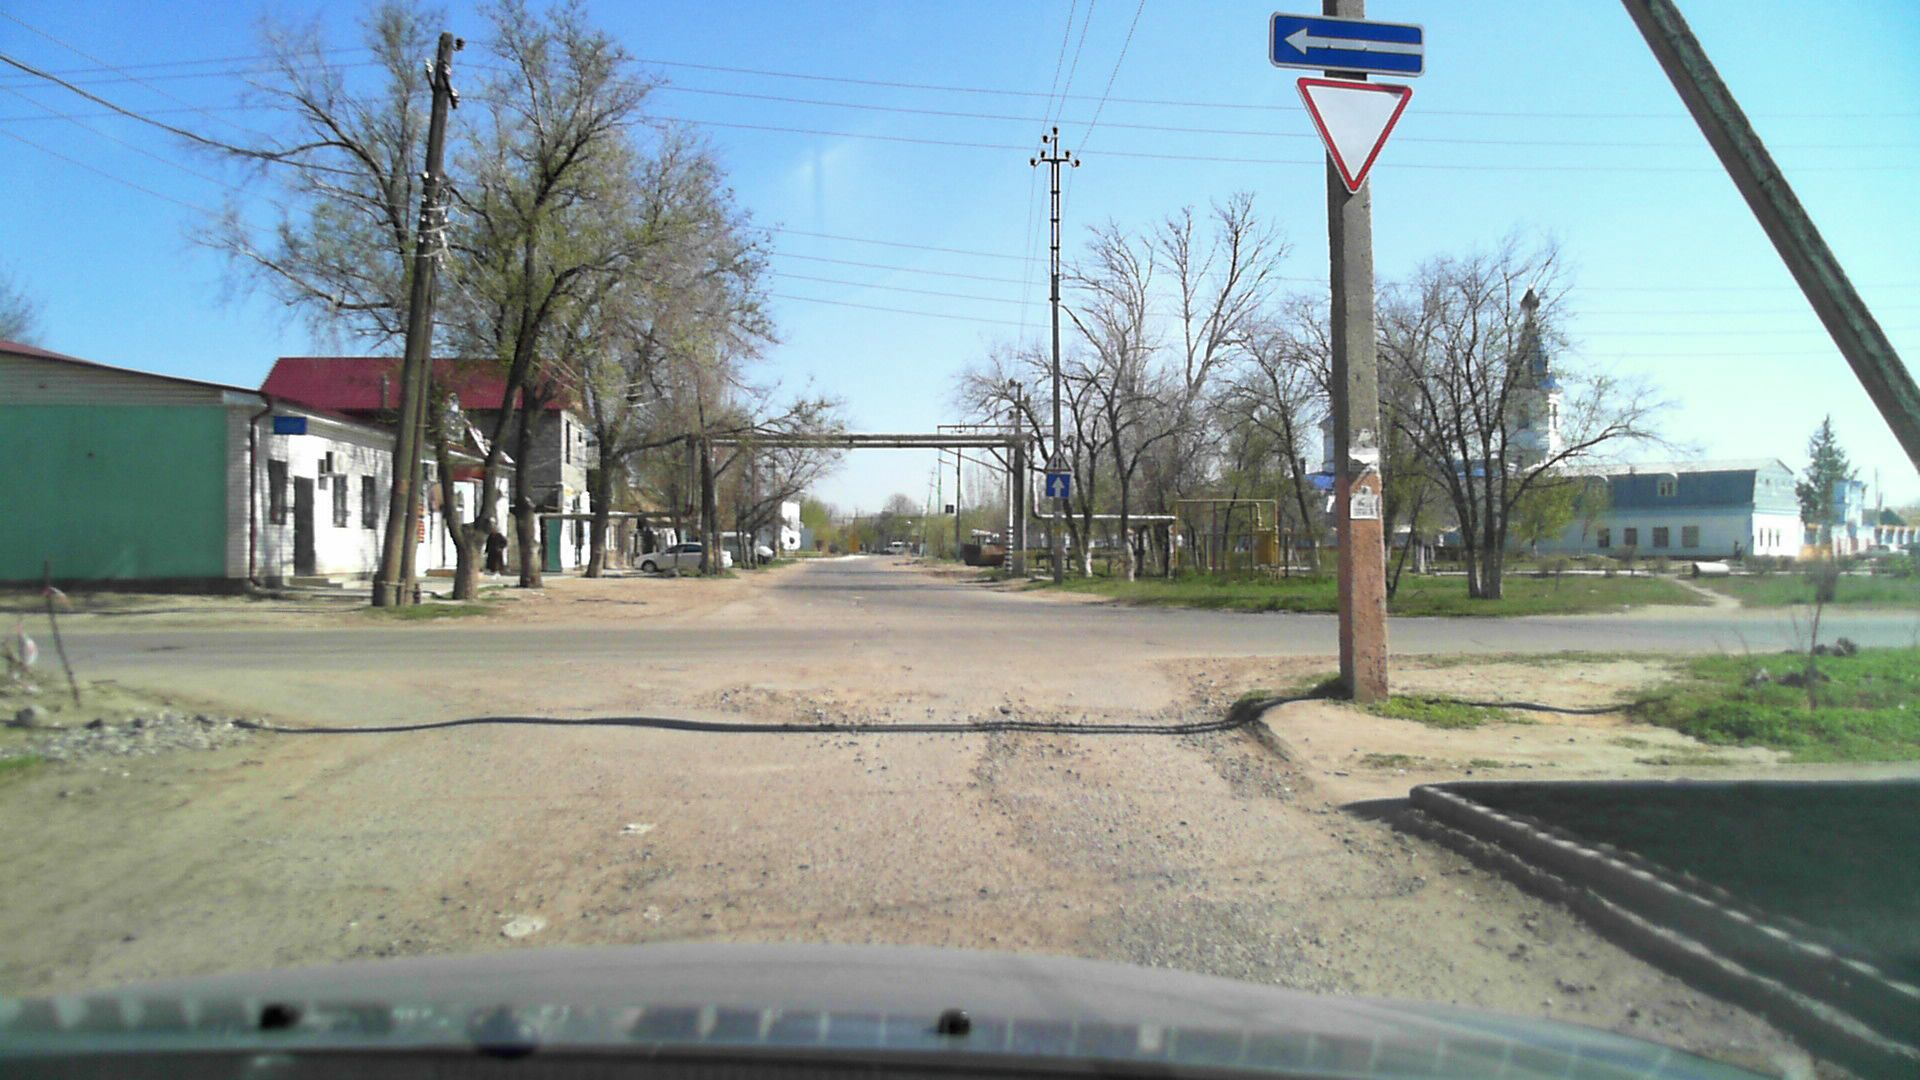One-Way Traffic: (1273, 15, 1425, 76)
